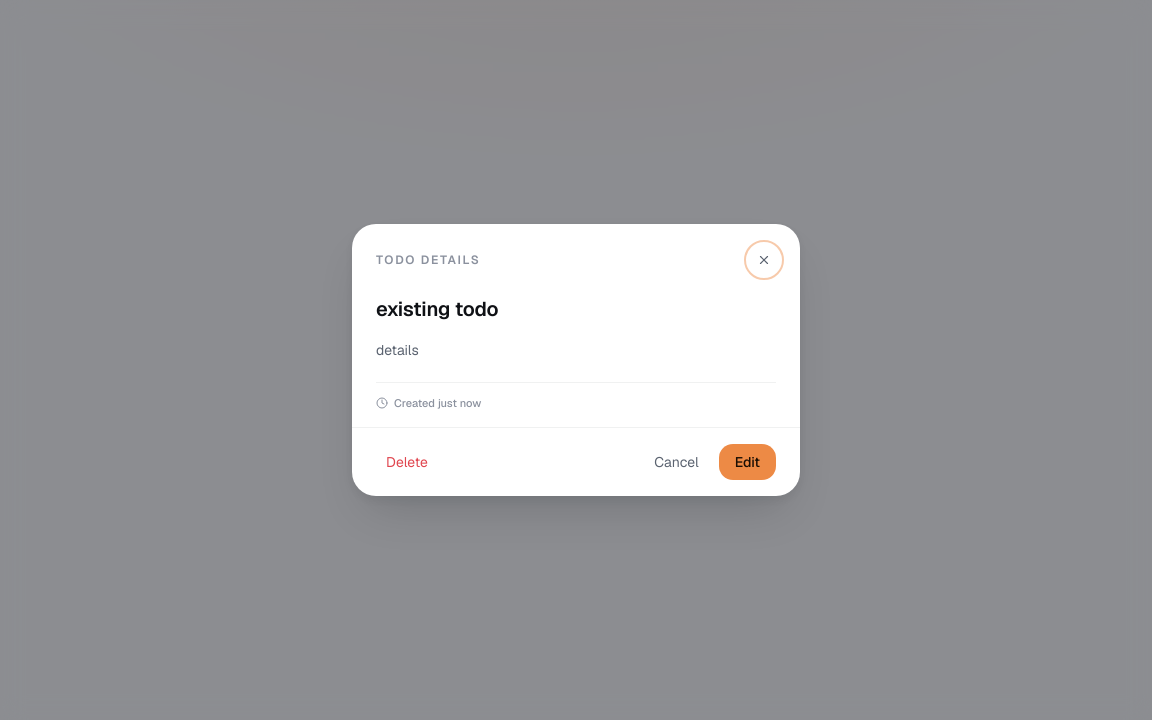
Scenario: <TodoModal> › opens an existing todo in view mode and switches to edit on Edit click
The width and height of the screenshot is (1152, 720).
Expected: the text "details" is shown, [376,341,419,359]
Click the button "Edit".
click(747, 462)  # box [719,444,776,480]
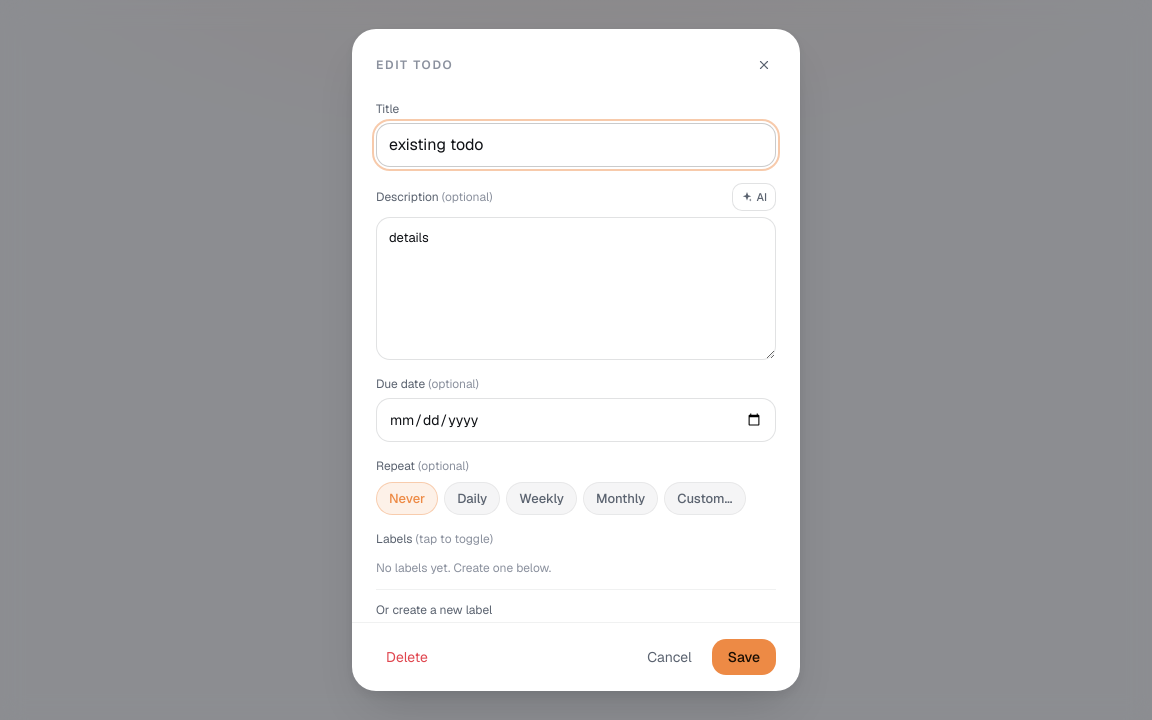
Expected: the dialog "Edit todo" is shown
